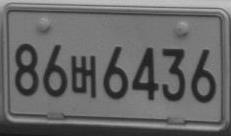3: (162, 48, 185, 101)
4: (131, 47, 158, 100)
6: (190, 48, 216, 102), (103, 46, 129, 99), (42, 44, 67, 97)
8: (14, 43, 39, 96)
버: (70, 55, 97, 97)
